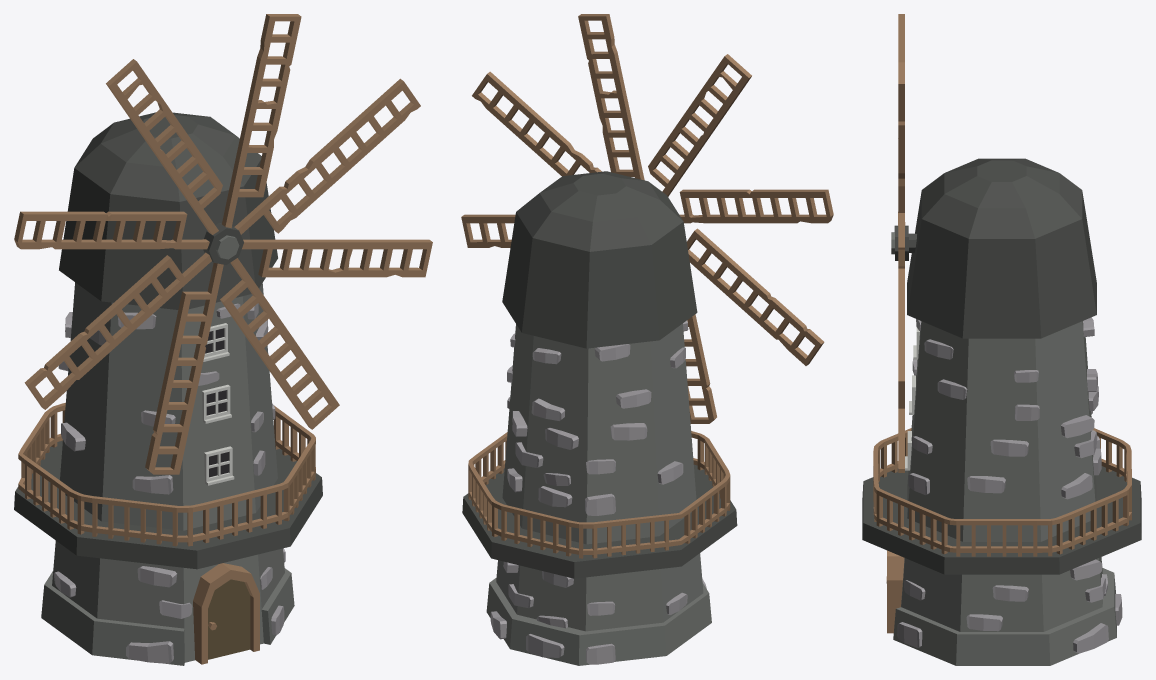
The model's file is windmill.glb.
The picture shows the model from 3 angles, left to right: view 1: azimuth 30°, elevation 25°; view 2: azimuth 150°, elevation 25°; view 3: azimuth 270°, elevation 25°; orthographic projection. The views are drawn at different scales.
Visible parts, largest first — view 1: TowerWindmill_Cylinder.008; view 2: TowerWindmill_Cylinder.008; view 3: TowerWindmill_Cylinder.008.
Part boxes in pixels (x1=…): TowerWindmill_Cylinder.008: x1=14, y1=14, x2=432, y2=665; TowerWindmill_Cylinder.008: x1=461, y1=14, x2=833, y2=665; TowerWindmill_Cylinder.008: x1=862, y1=14, x2=1141, y2=665.
Size of the model in its own units: 7.92 by 11.41 by 4.99.
1 material, 1 textured.
